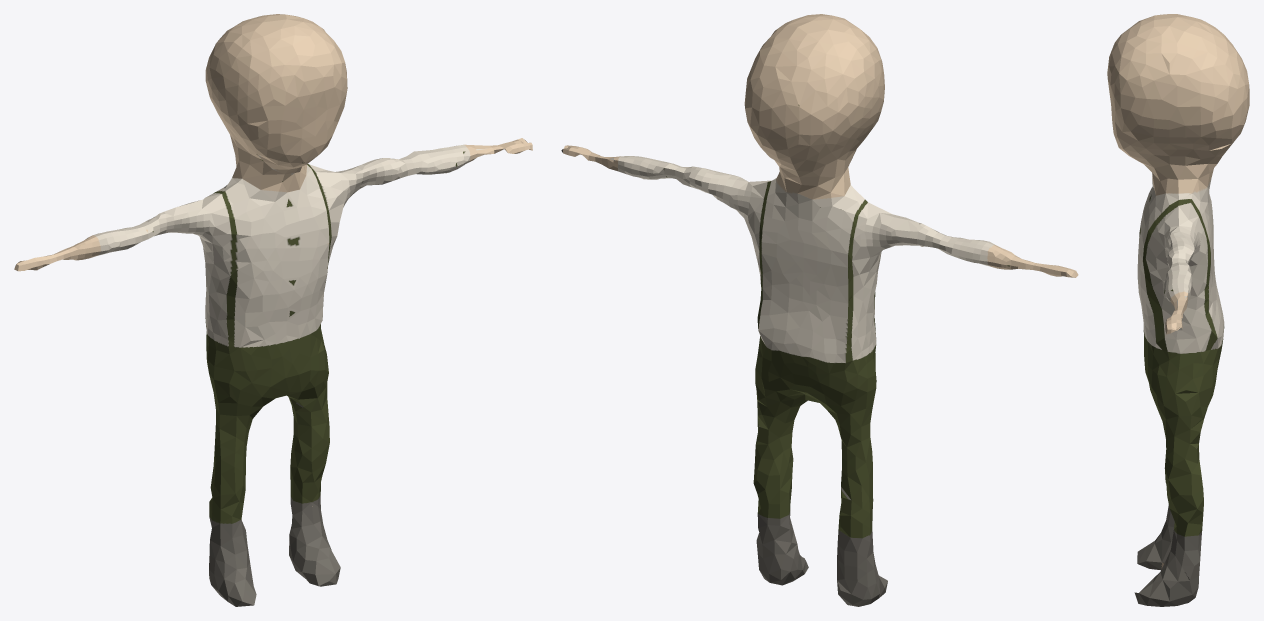
Rendered from boy_2.fbx.
3 renders of one model, left to right at view 1: azimuth 30°, elevation 25°; view 2: azimuth 150°, elevation 25°; view 3: azimuth 270°, elevation 25°, orthographic.
Parts seen in each view (by area): view 1: boy_.002; view 2: boy_.002; view 3: boy_.002.
Part boxes in pixels (x1,y1,x2,y2): boy_.002: (14, 14, 532, 606); boy_.002: (561, 14, 1078, 606); boy_.002: (1107, 14, 1249, 606).
Bounding box in the file's own units: 328 × 346 × 78.8.
Materials: 1 (1 with a texture image).
